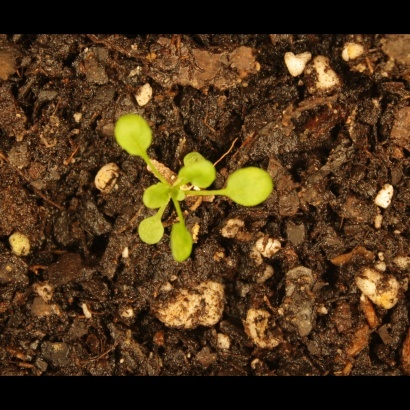leaf: (225, 166, 278, 211), (111, 114, 156, 158), (168, 218, 199, 265), (136, 210, 167, 248), (177, 161, 218, 188), (142, 181, 171, 210), (181, 147, 209, 170), (169, 184, 192, 207)
